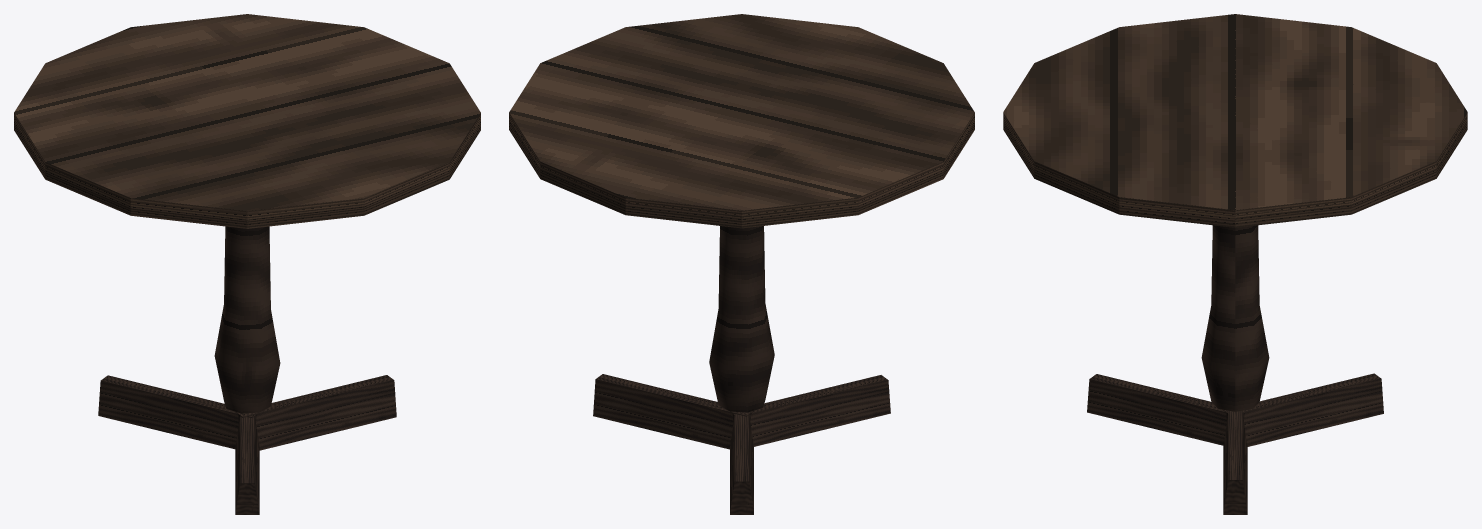
Rendered from PSXH_Table_Round.glb.
3 renders of one model, left to right at view 1: azimuth 30°, elevation 25°; view 2: azimuth 150°, elevation 25°; view 3: azimuth 270°, elevation 25°, orthographic.
Visible parts, largest first — view 1: PSXH_Table_Round; view 2: PSXH_Table_Round; view 3: PSXH_Table_Round.
Boxes of the visible parts, x1,y1,x2,y2 form: PSXH_Table_Round: (14, 14, 480, 514); PSXH_Table_Round: (509, 14, 974, 514); PSXH_Table_Round: (1003, 14, 1467, 514).
Bounding box in the file's own units: 0.96 × 0.76 × 0.96.
Materials: 1 (1 with a texture image).
